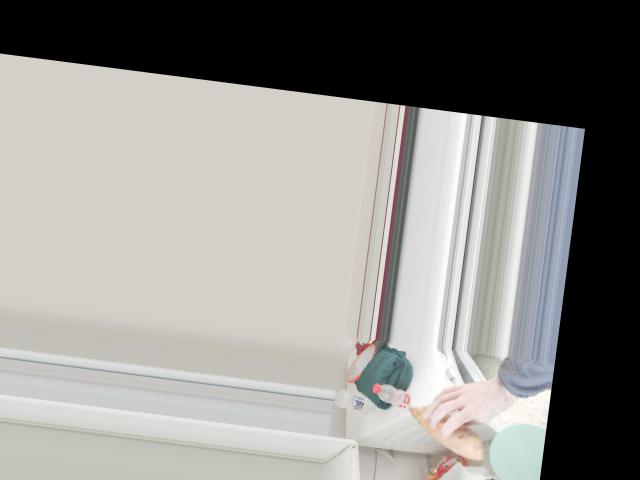sweet_potato: (408, 391, 477, 457)
